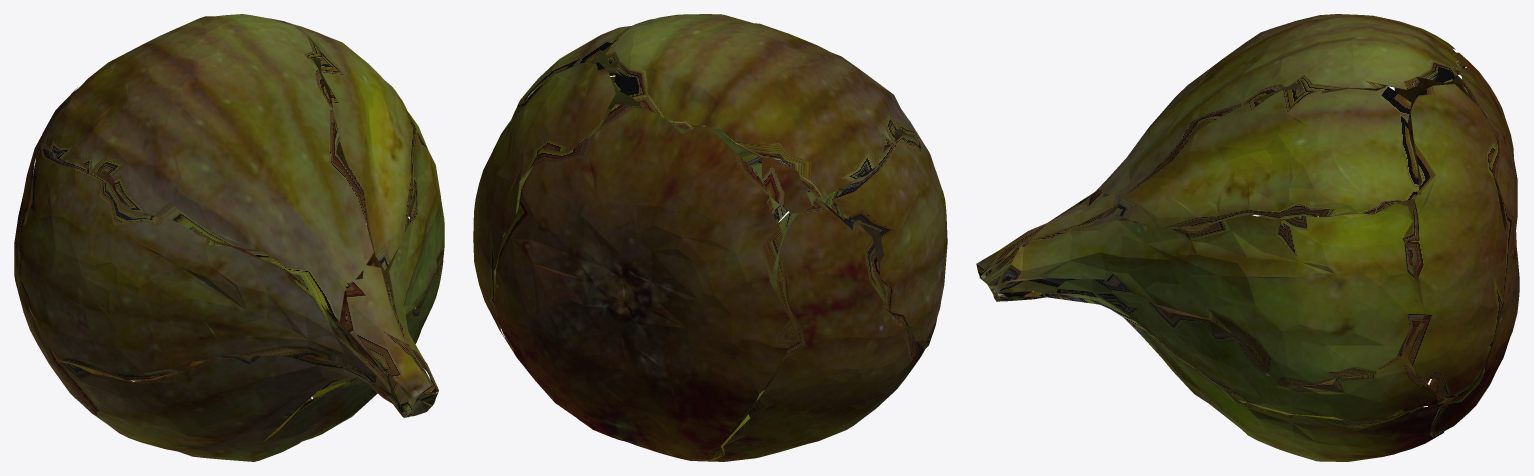
3 views of the same model, side by side, from view 1: azimuth 30°, elevation 25°; view 2: azimuth 150°, elevation 25°; view 3: azimuth 270°, elevation 25° (orthographic). The views are drawn at different scales.
Parts seen in each view (by area): view 1: world; view 2: world; view 3: world.
Boxes of the visible parts, left/top/right/bottom form: world: left=14, top=14, right=444, bottom=461; world: left=473, top=14, right=947, bottom=461; world: left=976, top=14, right=1519, bottom=461.
Size of the model in its own units: 0.04 by 0.0392 by 0.0478.
1 material, 1 textured.
